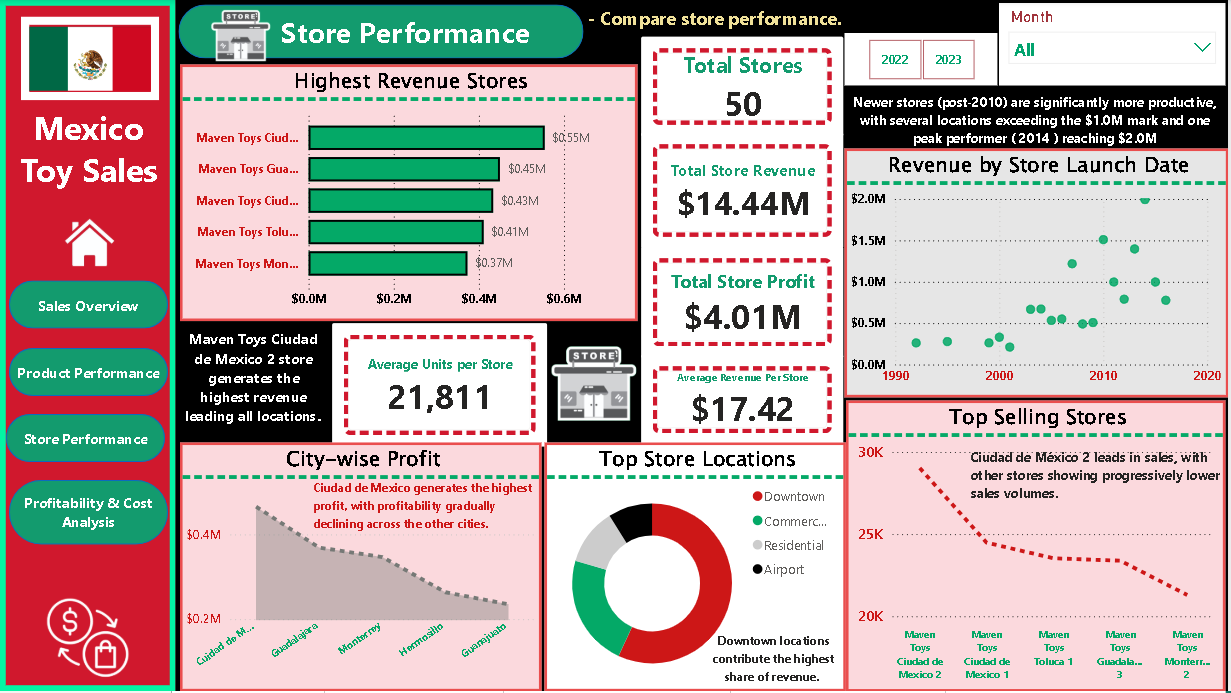

The dashboard page shown, as its layout file describes it:
{"tool":"powerbi","page":{"name":"Store Performance","canvas":[1280,720],"ordinal":3},"visuals":[{"type":"shape","box":[0,0,182.9,720],"z":0},{"type":"image","box":[21.9,17.2,143.8,87.5],"z":1000},{"type":"shape","box":[6.3,104.7,171.9,98.5],"z":2000},{"type":"shape","box":[186,4.7,422,56.3],"z":3000},{"type":"image","box":[25,615.8,132.9,96.9],"z":4000},{"type":"cardVisual","fields":{"Data":["Count(final (2).store_id)"]},"box":[662.7,32.8,221.9,114.1],"z":5000},{"type":"cardVisual","fields":{"Data":["final (2).Total_Profit"]},"box":[662.7,251.6,221.9,126.6],"z":6000},{"type":"cardVisual","fields":{"Data":["final (2).Total_Revenue"]},"box":[662.7,132.9,221.9,131.3],"z":7000},{"type":"shape","box":[9.4,292.3,165.7,50],"z":8000},{"type":"shape","box":[9.4,362.6,165.7,50],"z":9000},{"type":"actionButton","box":[26.6,295.4,132.9,40.6],"z":10000},{"type":"image","box":[200.1,4.7,98.5,65.6],"z":11000},{"type":"cardVisual","fields":{"Data":["final (2).Average Units per Store"]},"box":[340.7,331.4,234.4,139.1],"z":12000},{"type":"cardVisual","fields":{"Data":["final (2).Average Order Value"]},"box":[662.7,364.2,221.9,104.7],"z":13000},{"type":"image","box":[1040.9,192.2,159.4,153.2],"z":14000},{"type":"textbox","box":[608,0,512.7,65.6],"z":15000},{"type":"barChart","title":"Highest Revenue Stores","fields":{"Category":["final (2).store_name"],"Y":["final (2).Total_Revenue"]},"box":[187.6,67.2,476.7,267.3],"z":16000},{"type":"areaChart","title":"City-wise Profit","fields":{"Y":["final (2).Total_Profit"],"Category":["final (2).store_city"]},"box":[187.6,461.1,376.7,259.5],"z":17000},{"type":"scatterChart","title":"Revenue by Store Launch Date","fields":{"Y":["final (2).Total_Revenue"],"X":["final (2).store_open_date.Variation.Date Hierarchy.Year"]},"box":[880,154.7,400.1,259.5],"z":18000},{"type":"lineChart","title":"Top Selling Stores","fields":{"Category":["final (2).store_name"],"Y":["CountNonNull(final (2).sale_id)"]},"box":[881.5,417.3,395.4,303.2],"z":19000},{"type":"donutChart","title":"Top Store Locations","fields":{"Category":["final (2).store_location"],"Y":["final (2).Total_Revenue"]},"box":[567.4,461.1,314.2,259.5],"z":20000},{"type":"textbox","box":[187.6,337.6,153.2,131.3],"z":21000},{"type":"image","box":[558,331.4,117.2,137.5],"z":22000},{"type":"textbox","box":[728.4,651.8,156.3,68.8],"z":23000},{"type":"textbox","box":[322,492.3,245.4,76.6],"z":24000},{"type":"textbox","box":[1006.6,461.1,270.4,92.2],"z":25000},{"type":"textbox","box":[880,90.7,397,95.3],"z":26000},{"type":"slicer","fields":{"Values":["final (2).month_name"]},"box":[1040.9,3.1,236,86],"z":27000},{"type":"slicer","fields":{"Values":["final (2).sale_year"]},"box":[880,34.4,159.4,54.7],"z":28000},{"type":"shape","box":[6.3,431.4,165.7,50],"z":29000},{"type":"actionButton","box":[9.4,367.3,165.7,40.6],"z":30000},{"type":"shape","box":[9.4,500.2,165.7,67.2],"z":31000},{"type":"actionButton","box":[17.2,504.8,150,59.4],"z":32000},{"type":"image","box":[59.4,214.1,68.8,81.3],"z":33000}]}

Visuals, with their boxes in screenshot pixels (x1, y1, x2, y2), scaled from the page's 1280x720 canvas onto the 1231x693 screenshot:
shape: bbox(0, 0, 176, 692)
image: bbox(21, 17, 159, 101)
shape: bbox(6, 101, 171, 196)
shape: bbox(179, 5, 585, 59)
image: bbox(24, 593, 152, 686)
cardVisual - Count(final (2).store_id): bbox(637, 32, 851, 141)
cardVisual - final (2).Total_Profit: bbox(637, 242, 851, 364)
cardVisual - final (2).Total_Revenue: bbox(637, 128, 851, 254)
shape: bbox(9, 281, 168, 329)
shape: bbox(9, 349, 168, 397)
actionButton: bbox(26, 284, 153, 323)
image: bbox(192, 5, 287, 68)
cardVisual - final (2).Average Units per Store: bbox(328, 319, 553, 453)
cardVisual - final (2).Average Order Value: bbox(637, 351, 851, 451)
image: bbox(1001, 185, 1154, 332)
textbox: bbox(585, 0, 1078, 63)
"Highest Revenue Stores" barChart: bbox(180, 65, 639, 322)
"City-wise Profit" areaChart: bbox(180, 444, 543, 692)
"Revenue by Store Launch Date" scatterChart: bbox(846, 149, 1230, 399)
"Top Selling Stores" lineChart: bbox(848, 402, 1228, 692)
"Top Store Locations" donutChart: bbox(546, 444, 848, 692)
textbox: bbox(180, 325, 328, 451)
image: bbox(537, 319, 649, 451)
textbox: bbox(701, 627, 851, 692)
textbox: bbox(310, 474, 546, 548)
textbox: bbox(968, 444, 1228, 533)
textbox: bbox(846, 87, 1228, 179)
slicer - final (2).month_name: bbox(1001, 3, 1228, 86)
slicer - final (2).sale_year: bbox(846, 33, 1000, 86)
shape: bbox(6, 415, 165, 463)
actionButton: bbox(9, 354, 168, 393)
shape: bbox(9, 481, 168, 546)
actionButton: bbox(17, 486, 161, 543)
image: bbox(57, 206, 123, 284)
